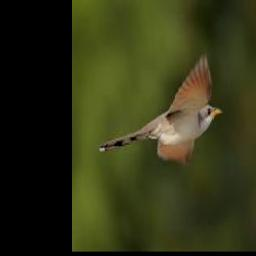Cuckoo: (99, 56, 222, 159)
